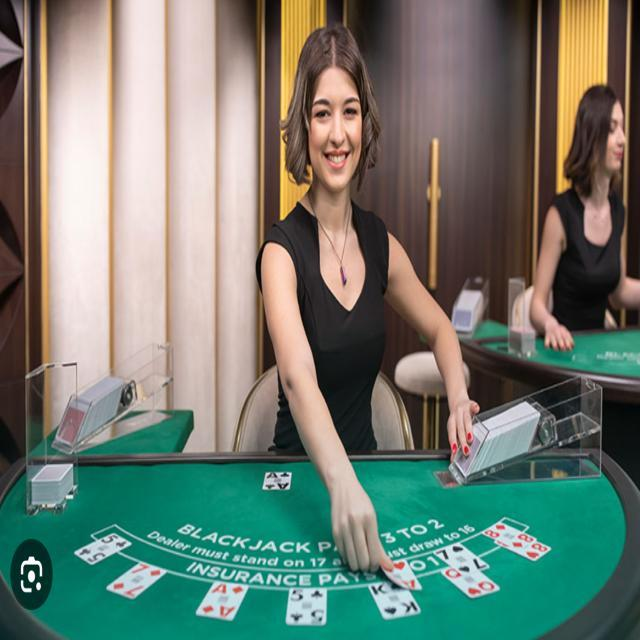Card-5: (74, 531, 131, 565), (285, 587, 326, 624)
Card-7: (106, 560, 167, 599), (433, 543, 489, 578)
Card-8: (481, 522, 536, 550), (494, 540, 552, 561)
Card-A: (196, 579, 248, 621), (382, 559, 421, 588), (262, 472, 292, 489)
Card-K: (369, 580, 421, 619)
Card-Q: (441, 566, 500, 597)
